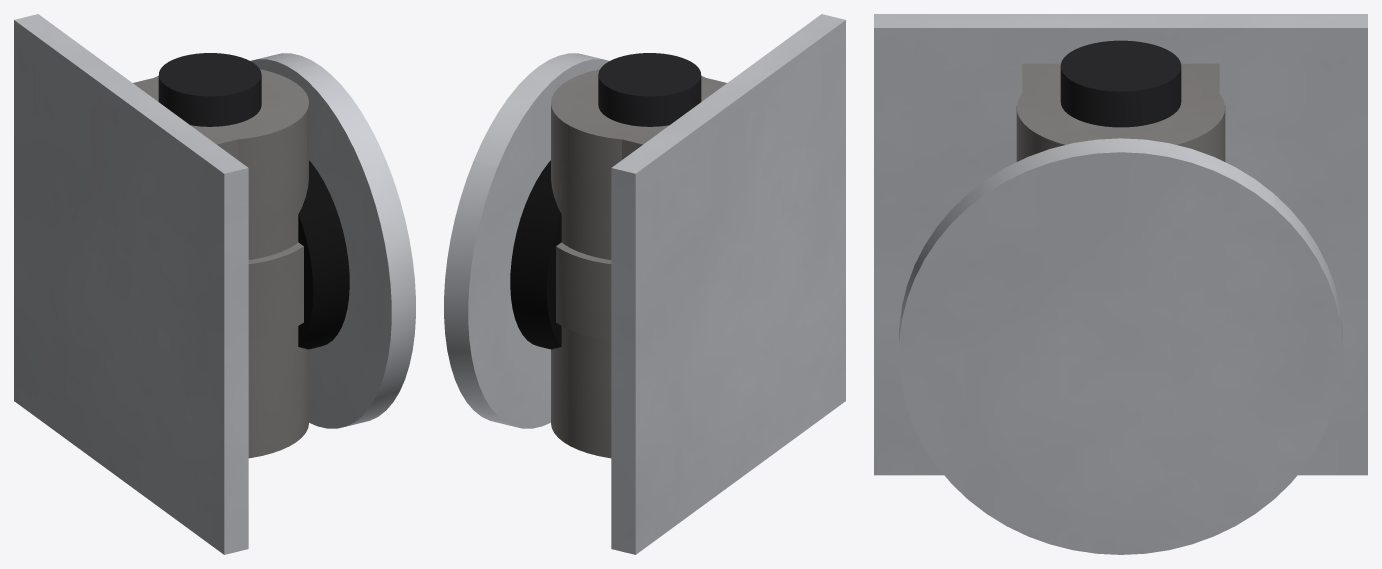
File: rover18_steering_module_l.glb
The picture shows the model from 3 angles, left to right: view 1: azimuth 30°, elevation 25°; view 2: azimuth 150°, elevation 25°; view 3: azimuth 270°, elevation 25°; orthographic projection. The views are drawn at different scales.
Visible parts, largest first — view 1: mount_flange, half_b_flange, slew_ring, half_b_neck, steer_motor, yoke; view 2: mount_flange, half_b_flange, slew_ring, half_b_neck, steer_motor, yoke; view 3: half_b_flange, mount_flange, steer_motor, slew_ring, yoke.
Boxes of the visible parts, left/top/right/bottom form: mount_flange: left=14, top=14, right=248, bottom=554; half_b_flange: left=250, top=53, right=415, bottom=428; slew_ring: left=139, top=69, right=308, bottom=458; half_b_neck: left=298, top=160, right=349, bottom=349; steer_motor: left=158, top=53, right=261, bottom=126; yoke: left=133, top=78, right=261, bottom=159; mount_flange: left=611, top=14, right=845, bottom=554; half_b_flange: left=444, top=53, right=609, bottom=428; slew_ring: left=551, top=69, right=720, bottom=458; half_b_neck: left=510, top=160, right=561, bottom=349; steer_motor: left=598, top=53, right=701, bottom=126; yoke: left=598, top=76, right=726, bottom=159; half_b_flange: left=899, top=138, right=1342, bottom=554; mount_flange: left=874, top=14, right=1367, bottom=475; steer_motor: left=1060, top=40, right=1181, bottom=127; slew_ring: left=1016, top=72, right=1225, bottom=161; yoke: left=1022, top=63, right=1219, bottom=107.
Bounding box in the file's own units: 0.25 × 0.45 × 0.45.
Materials: 4 (2 with a texture image).
